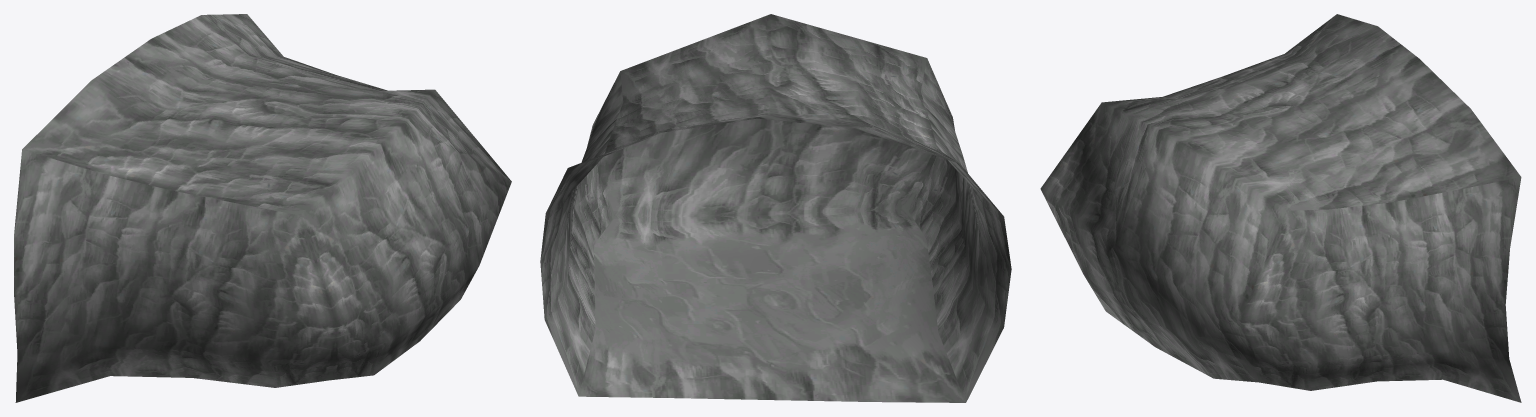
The model's file is SWORDLIGHT20_PS-AREA04_07.fbx.
3 views of the same model, side by side, from view 1: azimuth 30°, elevation 25°; view 2: azimuth 150°, elevation 25°; view 3: azimuth 270°, elevation 25° (orthographic). The views are drawn at different scales.
Parts seen in each view (by area): view 1: SWORDLIGHT20_PS-AREA04_07; view 2: SWORDLIGHT20_PS-AREA04_07; view 3: SWORDLIGHT20_PS-AREA04_07.
Boxes of the visible parts, left/top/right/bottom form: SWORDLIGHT20_PS-AREA04_07: left=14, top=14, right=511, bottom=402; SWORDLIGHT20_PS-AREA04_07: left=540, top=14, right=1011, bottom=402; SWORDLIGHT20_PS-AREA04_07: left=1040, top=14, right=1521, bottom=402.
Size of the model in its own units: 78745 by 46278 by 72162.
Materials: 2 (2 with a texture image).
